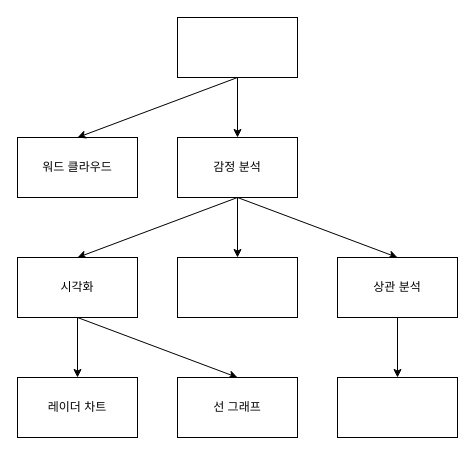
Some shapes in this 475 by 455 pixel diagram are drawn without their labels. Here are the shapes that lost their labels. From the top down, the centre of each, then its label:
pixel 237 47: 댓글 수집
pixel 237 287: 군집 분석
pixel 397 407: 회귀 분석
